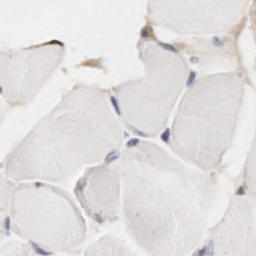nucleus: (195, 239, 215, 256), (32, 242, 52, 256), (110, 95, 122, 116), (104, 150, 120, 163), (160, 128, 170, 144), (187, 70, 196, 86), (159, 43, 176, 51), (126, 138, 139, 147), (211, 36, 223, 45), (4, 216, 11, 231), (189, 56, 199, 63), (95, 213, 101, 223), (141, 28, 147, 37), (35, 182, 42, 187), (1, 85, 2, 94)
positive_cell: (141, 20, 157, 42), (161, 41, 187, 52), (238, 186, 244, 194)
